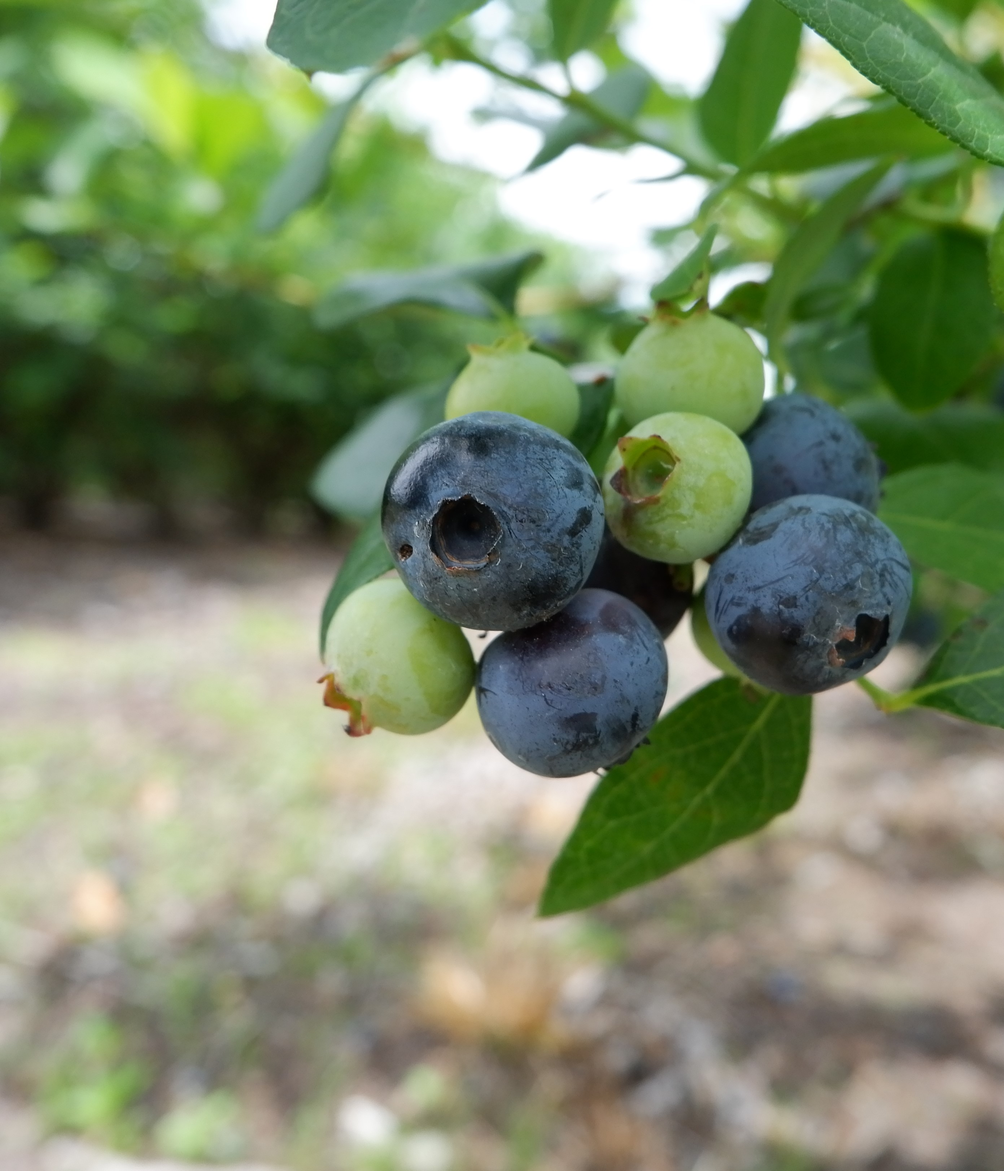Immature: (325, 578, 472, 733), (606, 412, 751, 559), (617, 307, 764, 427), (448, 337, 579, 433)
Mature: (386, 418, 603, 626), (714, 499, 911, 693), (479, 594, 665, 774), (744, 397, 882, 512), (591, 538, 690, 633)
